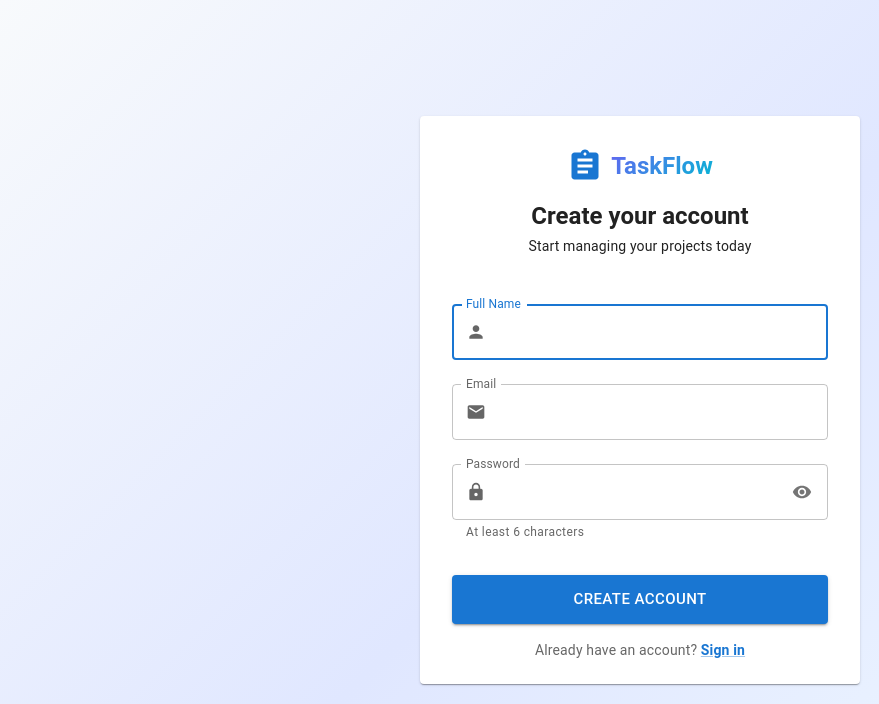
Test: RegisterForm › shows error for short password
Type "Test" into the field labelled "Full Name" at point(661, 332), box top-left (494, 304), bottom-right (828, 360)
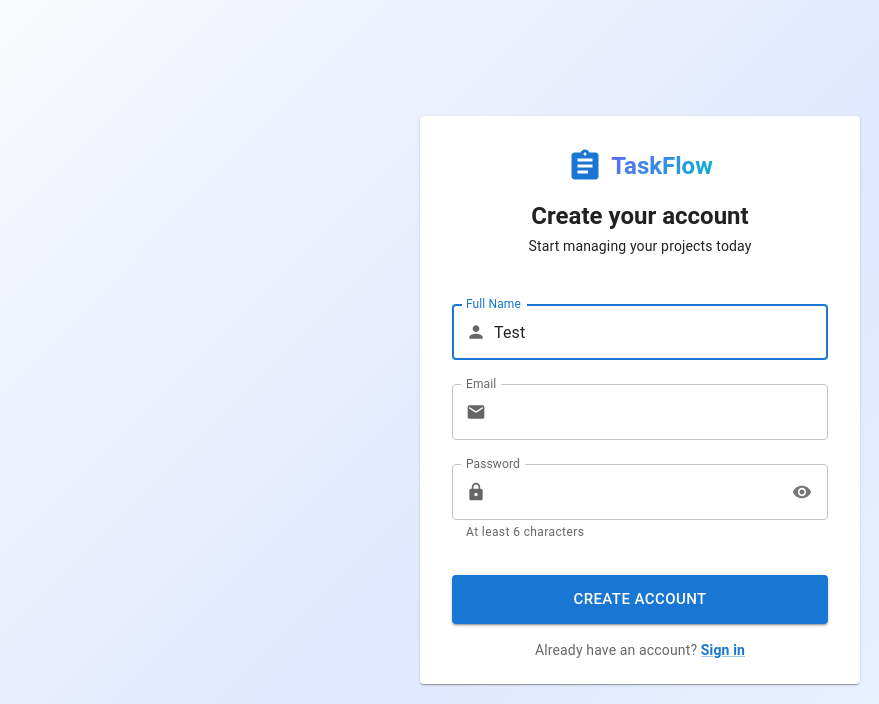
Type "test@example.com" into the field labelled "Email" at point(661, 412), box top-left (494, 384), bottom-right (828, 440)
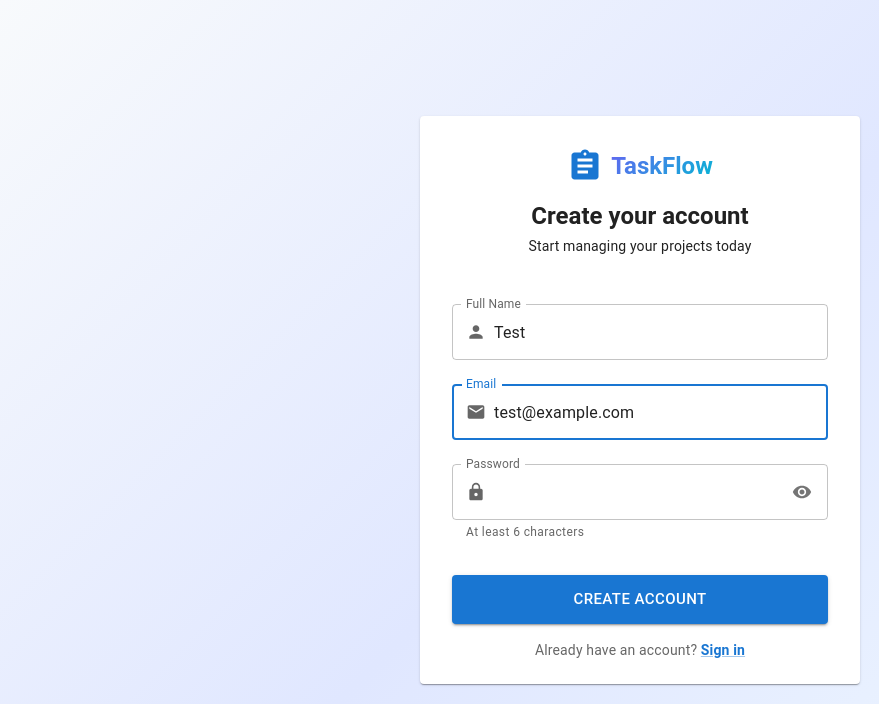
Type "123" into the password field labelled "Password" at point(636, 492), box top-left (494, 464), bottom-right (779, 520)
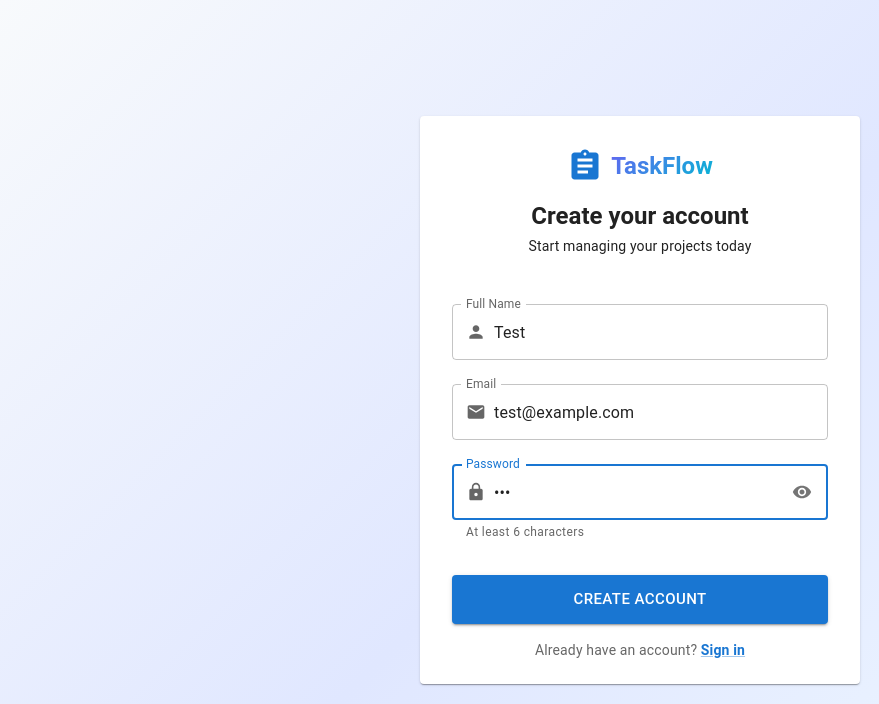
Click the button "Create Account" at point(640, 599), box top-left (452, 575), bottom-right (828, 624)
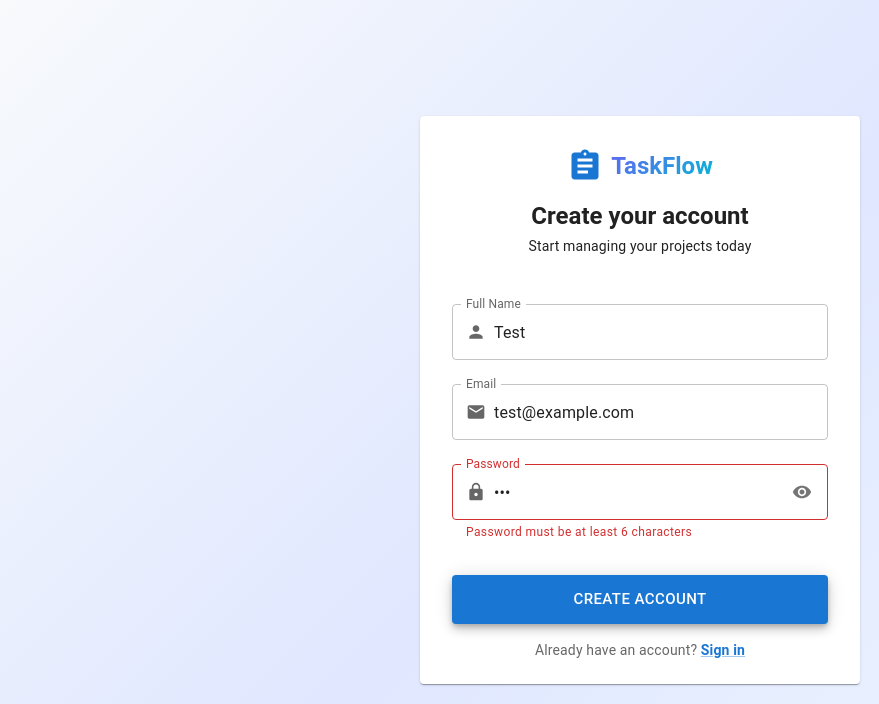
expect the text "Password must be at least 6 characters" is shown: met, box top-left (466, 525), bottom-right (692, 539)
